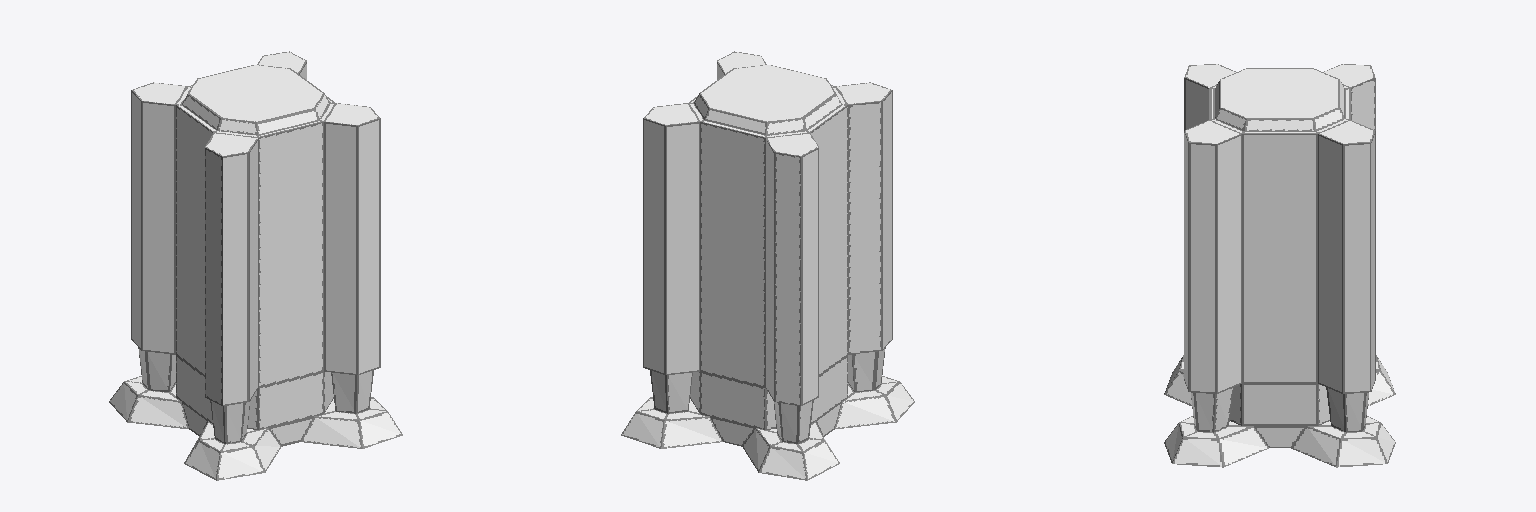
3 renders of one model, left to right at view 1: azimuth 30°, elevation 25°; view 2: azimuth 150°, elevation 25°; view 3: azimuth 270°, elevation 25°, orthographic.
Visible parts, largest first — view 1: cube3_copy19; view 2: cube3_copy19; view 3: cube3_copy19.
Boxes of the visible parts, x1,y1,x2,y2 form: cube3_copy19: [109, 51, 402, 480]; cube3_copy19: [621, 51, 914, 480]; cube3_copy19: [1164, 64, 1395, 467].
Size of the model in its own units: 1.27 by 1.96 by 1.27.
1 materials, 1 textured.